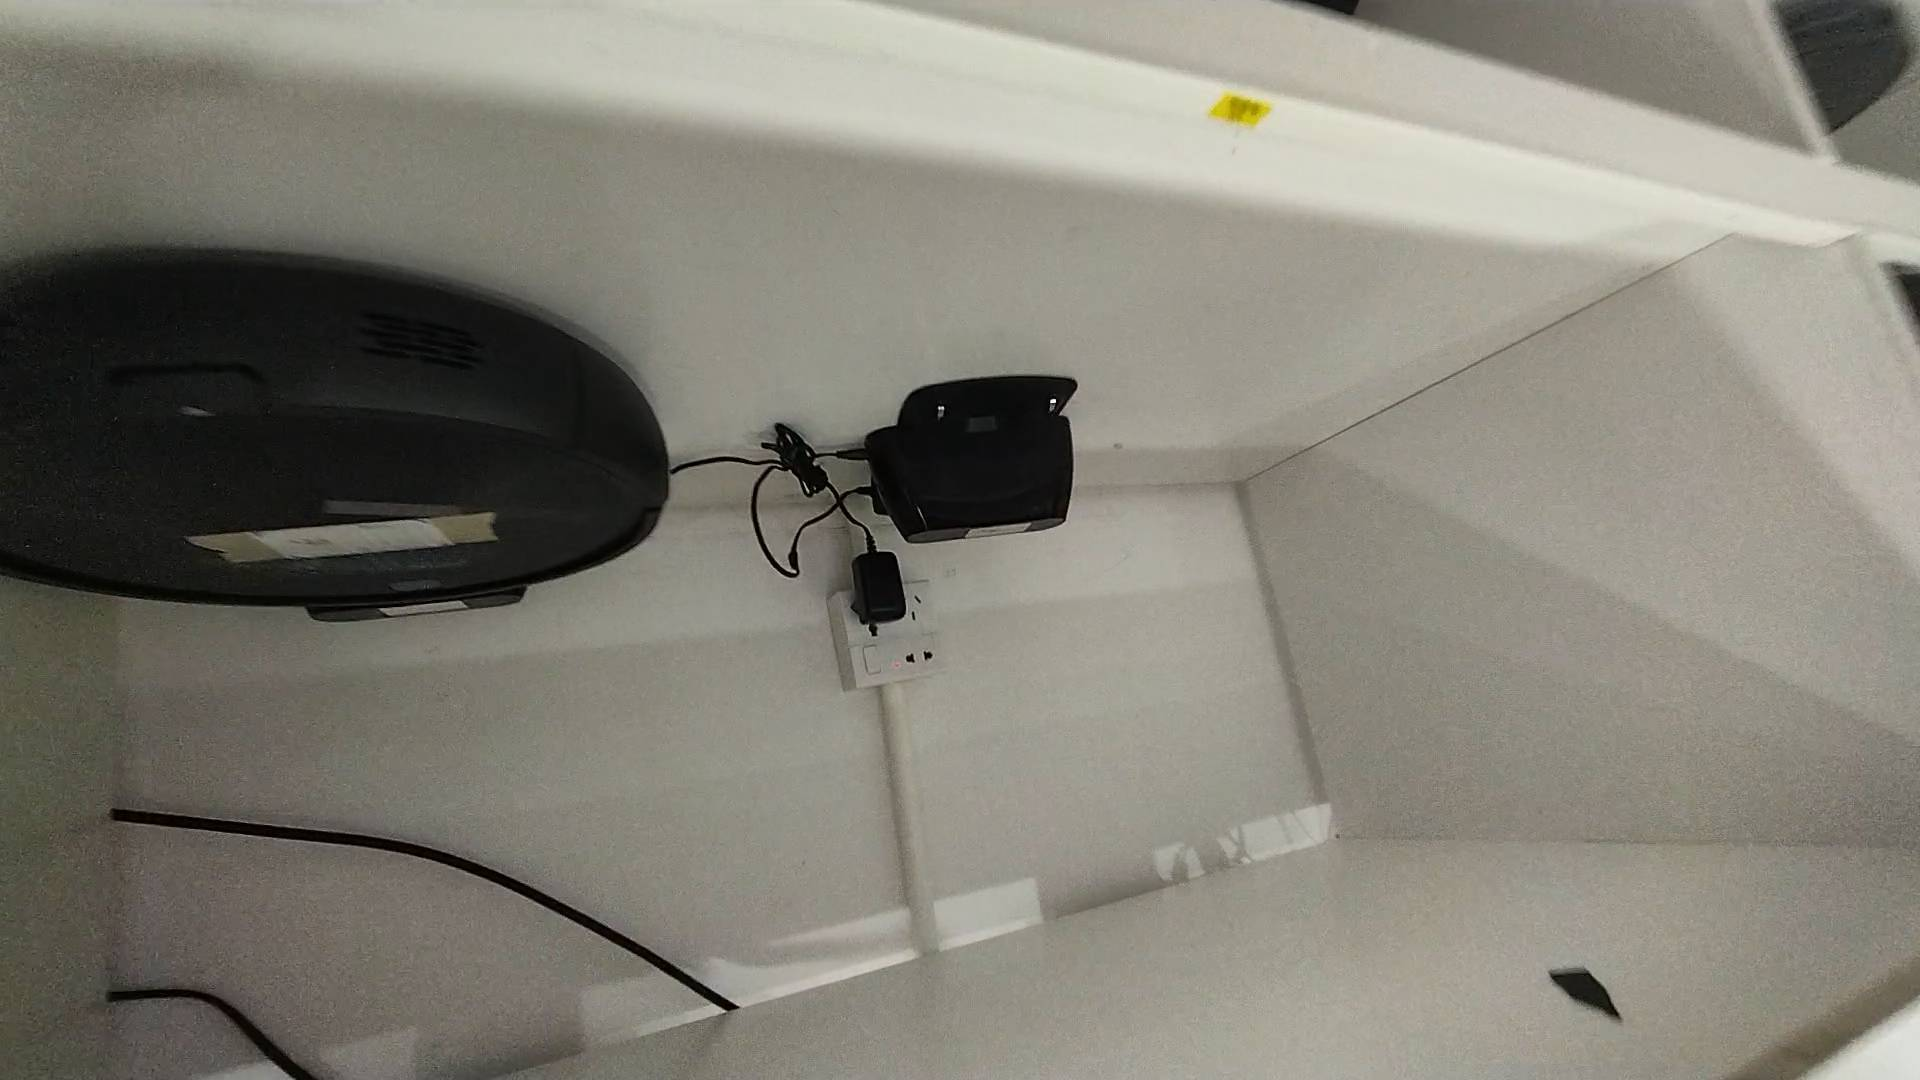recharge seat: (866, 377, 1076, 546)
